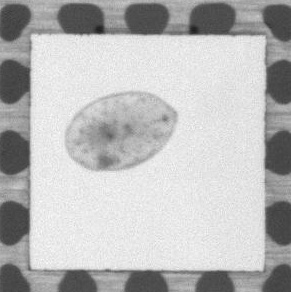DIE_INK: (64, 87, 176, 173)
